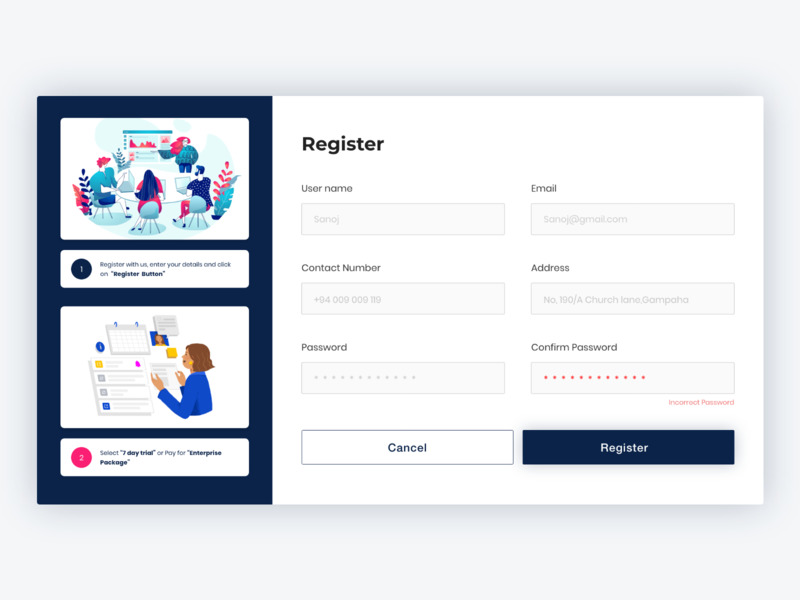_form_: (488, 158, 760, 509), (275, 150, 546, 501)
button: (520, 428, 735, 466), (298, 430, 513, 466)
field: (296, 200, 507, 238), (527, 359, 737, 397), (527, 199, 738, 236), (300, 359, 505, 397), (528, 279, 738, 315), (299, 280, 506, 315)
